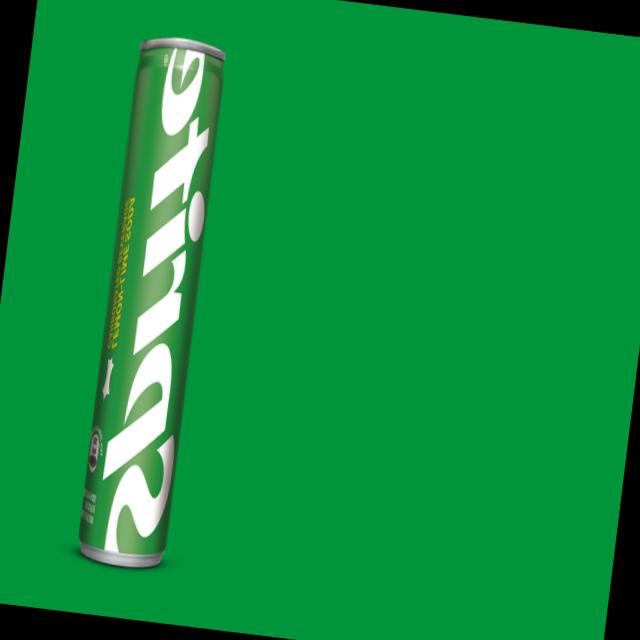sprite: (72, 29, 232, 576)
